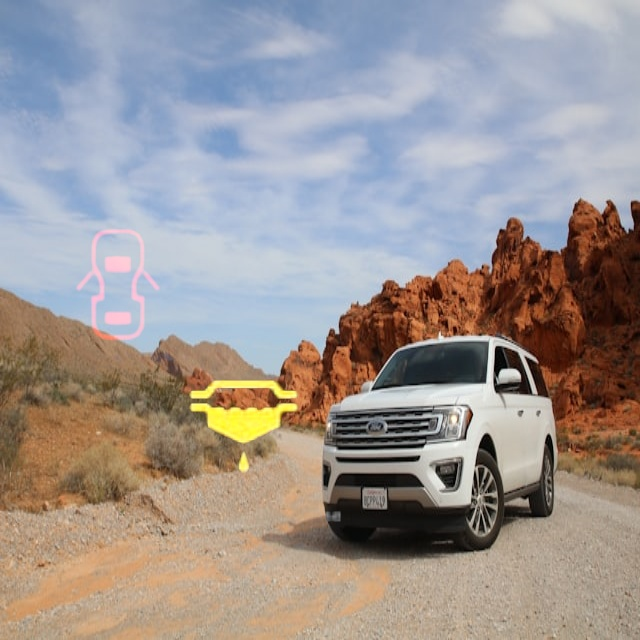symbol: (141, 324, 349, 532), (36, 206, 200, 370)
